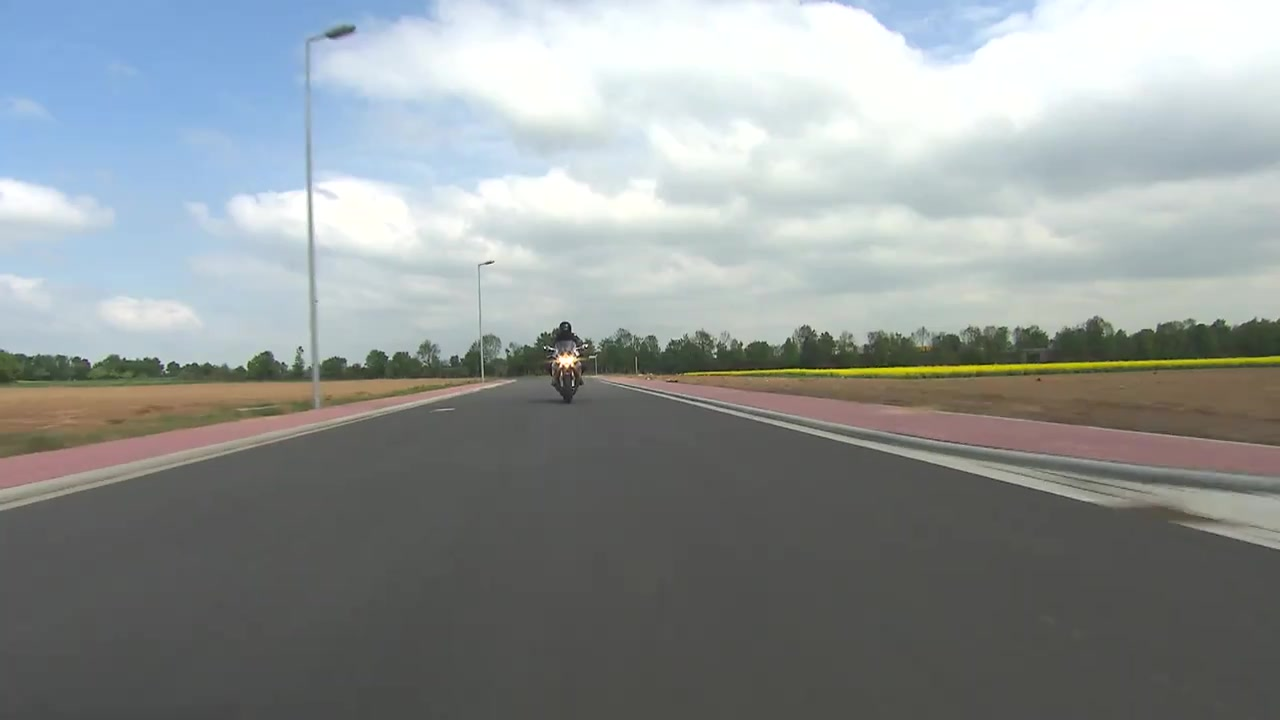motorbike: (537, 337, 596, 403)
